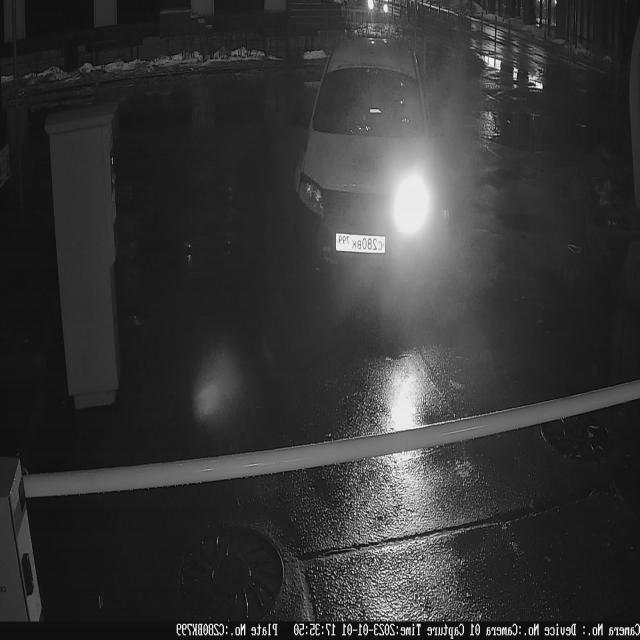car-plate-numbers: (334, 231, 388, 258)
